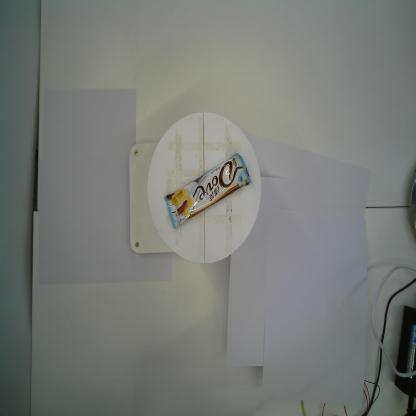Chocolate: (164, 152, 252, 230)
